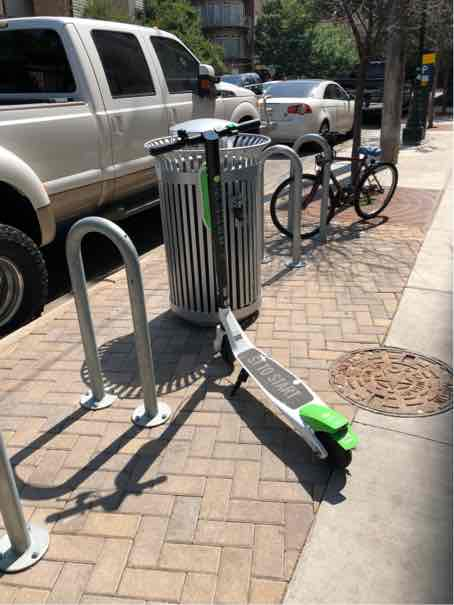scooter: (138, 114, 376, 488)
